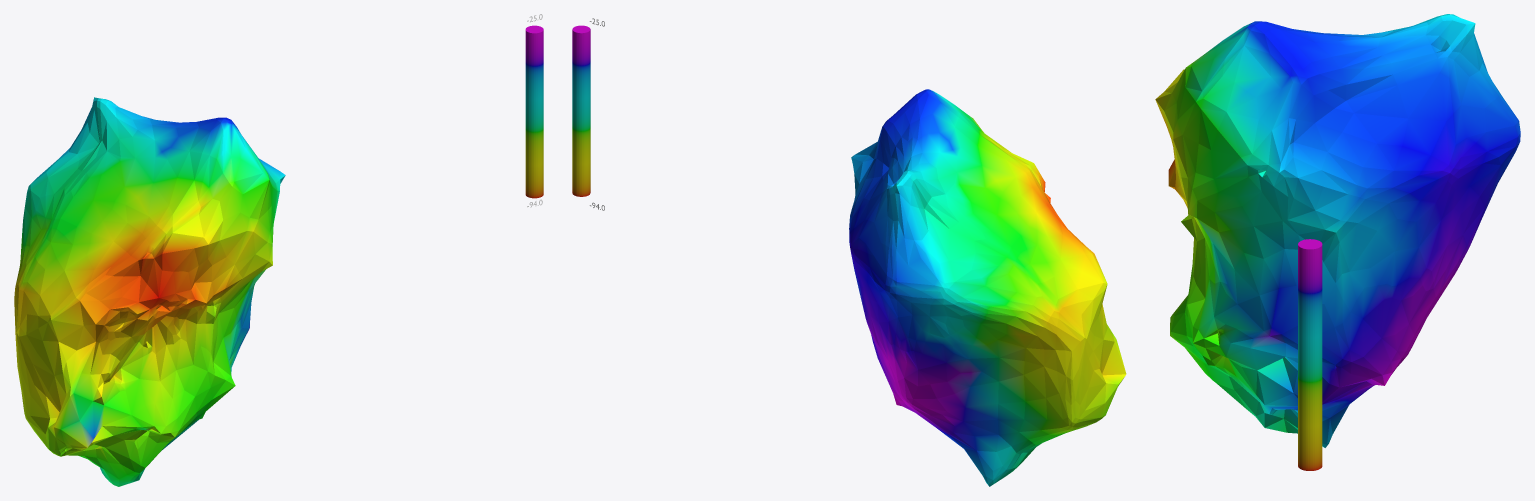
The model's file is CARTO_Heart.glb.
3 renders of one model, left to right at view 1: azimuth 30°, elevation 25°; view 2: azimuth 150°, elevation 25°; view 3: azimuth 270°, elevation 25°, orthographic. The views are drawn at different scales.
Visible parts, largest first — view 1: CARTO_Heart, Cylinder; view 2: CARTO_Heart, Cylinder; view 3: CARTO_Heart, Cylinder.
Boxes of the visible parts, x1,y1,x2,y2 form: CARTO_Heart: (14, 97, 285, 486); Cylinder: (525, 25, 543, 198); CARTO_Heart: (849, 89, 1126, 486); Cylinder: (572, 25, 590, 196); CARTO_Heart: (1155, 14, 1520, 447); Cylinder: (1298, 239, 1322, 470).
Bounding box in the file's own units: 0.6634 × 0.4476 × 0.2988.
2 materials, 2 textured.
